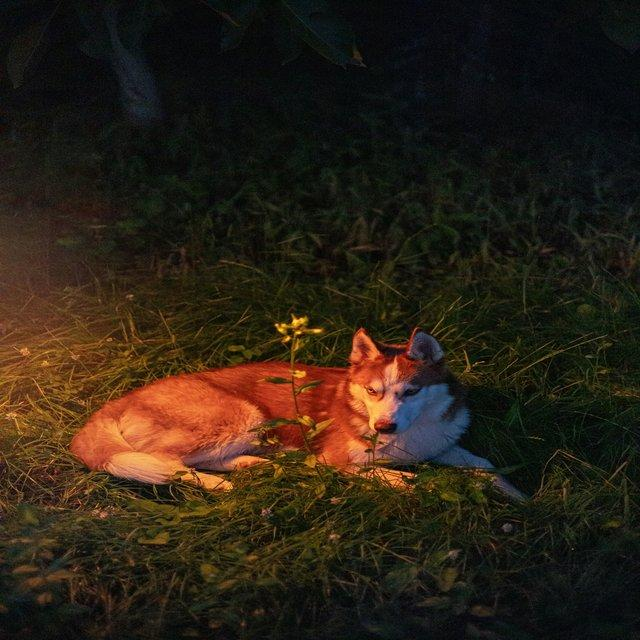husky: (68, 324, 529, 505)
